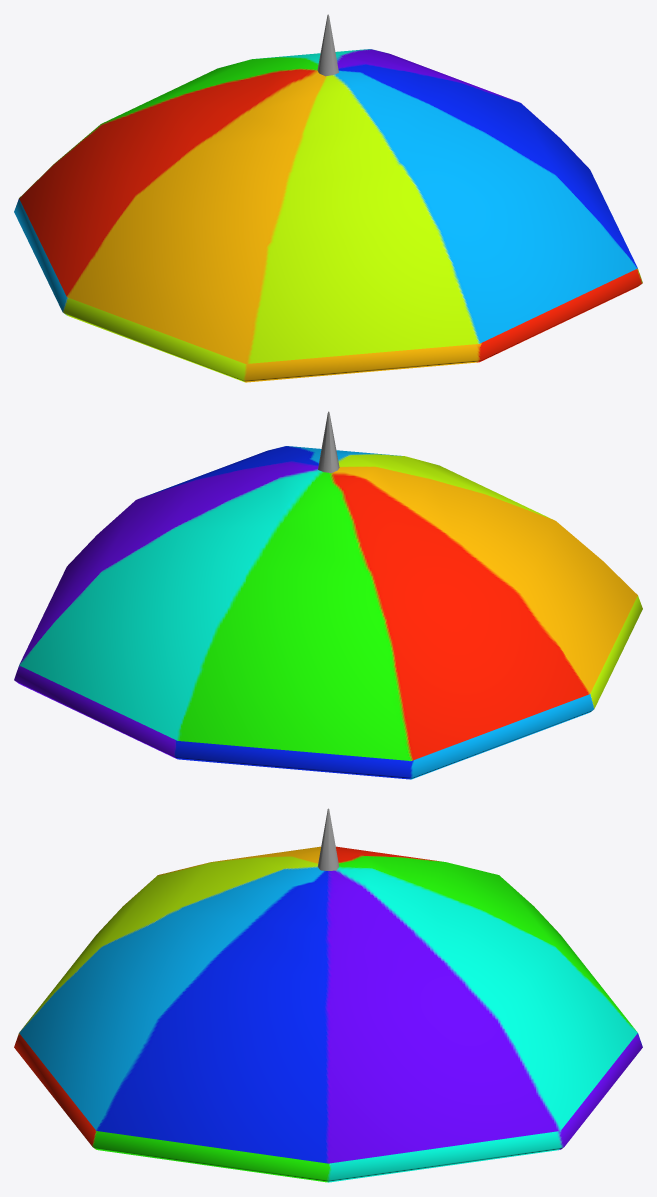
Rendered from SM_Umbrella_Hat.fbx.
The picture shows the model from 3 angles, top to bottom: view 1: azimuth 30°, elevation 25°; view 2: azimuth 150°, elevation 25°; view 3: azimuth 270°, elevation 25°; orthographic projection. The views are drawn at different scales.
Parts seen in each view (by area): view 1: pCube7; view 2: pCube7; view 3: pCube7.
Part boxes in pixels (x1,y1,x2,y2): pCube7: [14, 14, 642, 382]; pCube7: [14, 411, 642, 779]; pCube7: [14, 808, 642, 1182].
Size of the model in its own units: 3.61 by 1.62 by 3.61.
2 materials, 1 textured.
